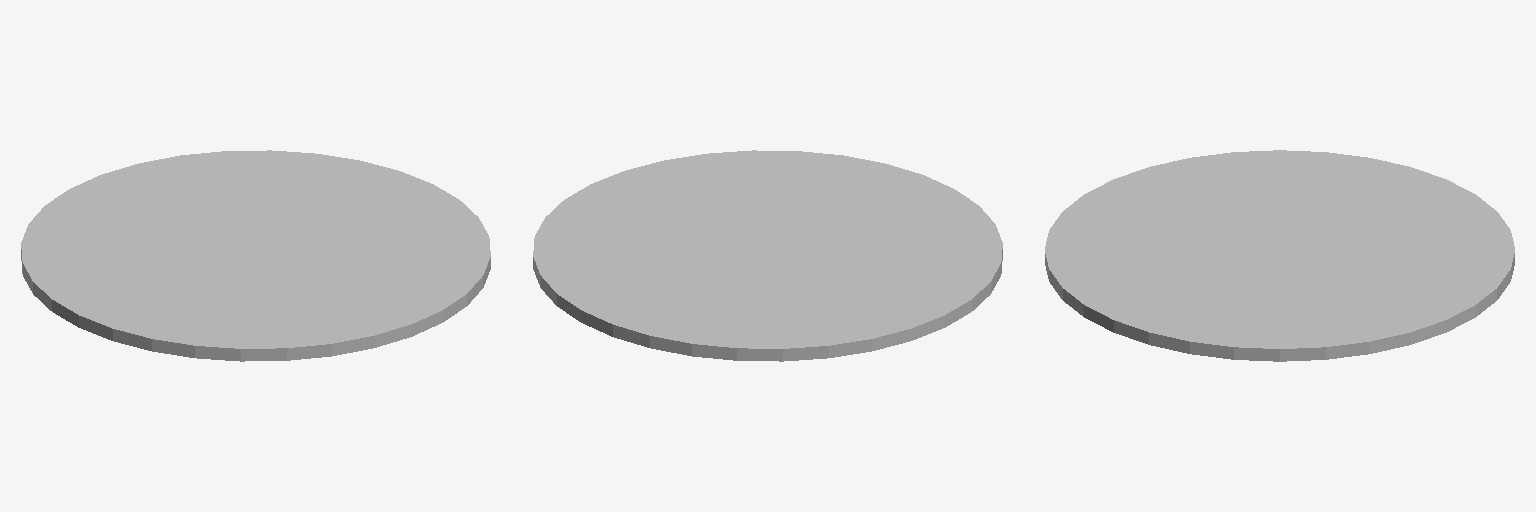
Rendered from scene1-table-glass.obj.
The picture shows the model from 3 angles: view 1: azimuth 30°, elevation 25°; view 2: azimuth 150°, elevation 25°; view 3: azimuth 270°, elevation 25°; orthographic projection.
Visible parts, largest first — view 1: glass_Cylinder; view 2: glass_Cylinder; view 3: glass_Cylinder.
Part boxes in pixels (x1,y1,x2,y2): glass_Cylinder: (21,150,490,361); glass_Cylinder: (533,150,1002,361); glass_Cylinder: (1045,150,1514,361).
Bounding box in the file's own units: 8 × 0.2358 × 8.